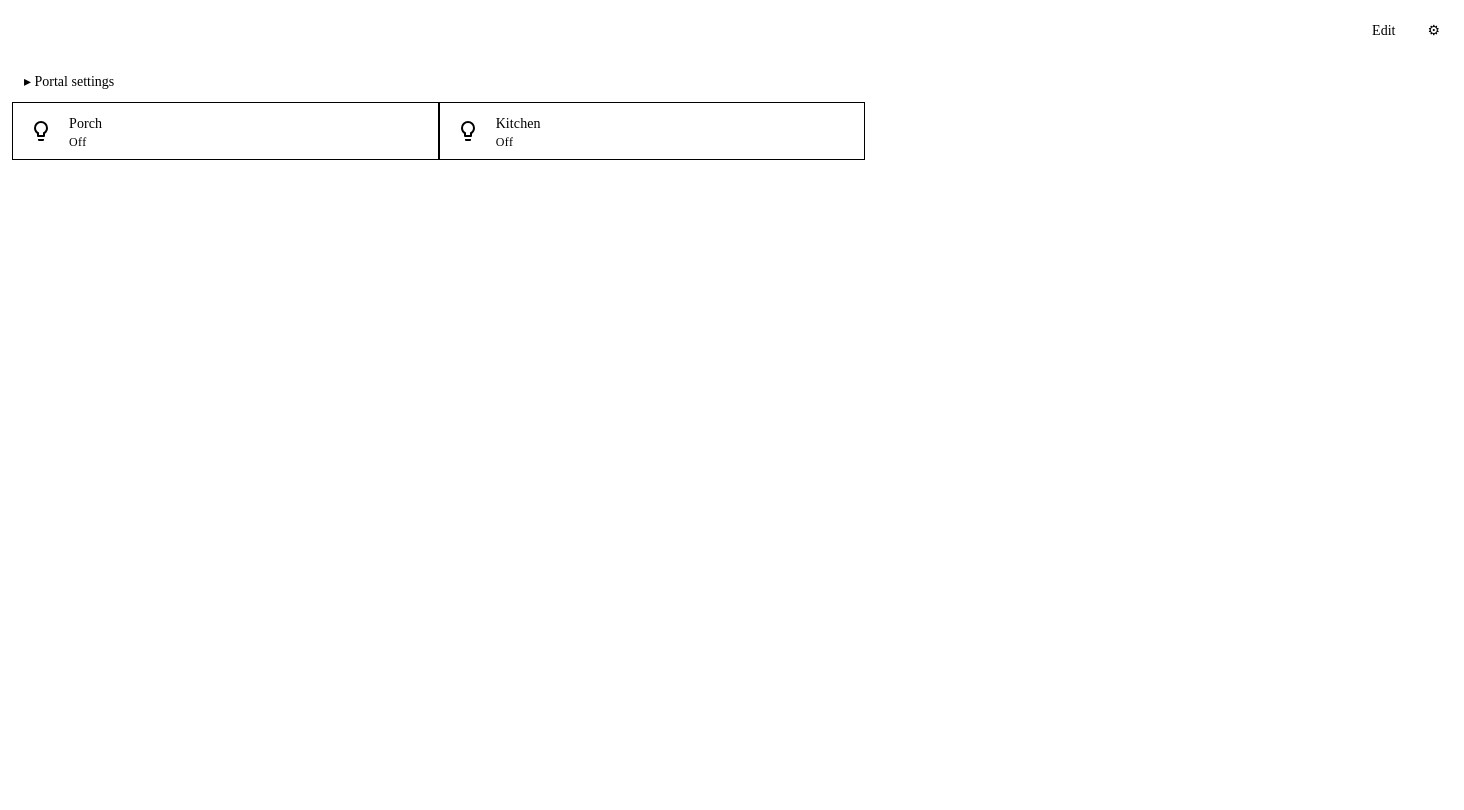
Scenario: Portal page › Edit mode › opens the editor for the device that was tapped
Click the button "Edit".
click(1384, 30)  # box [1360, 12, 1407, 49]
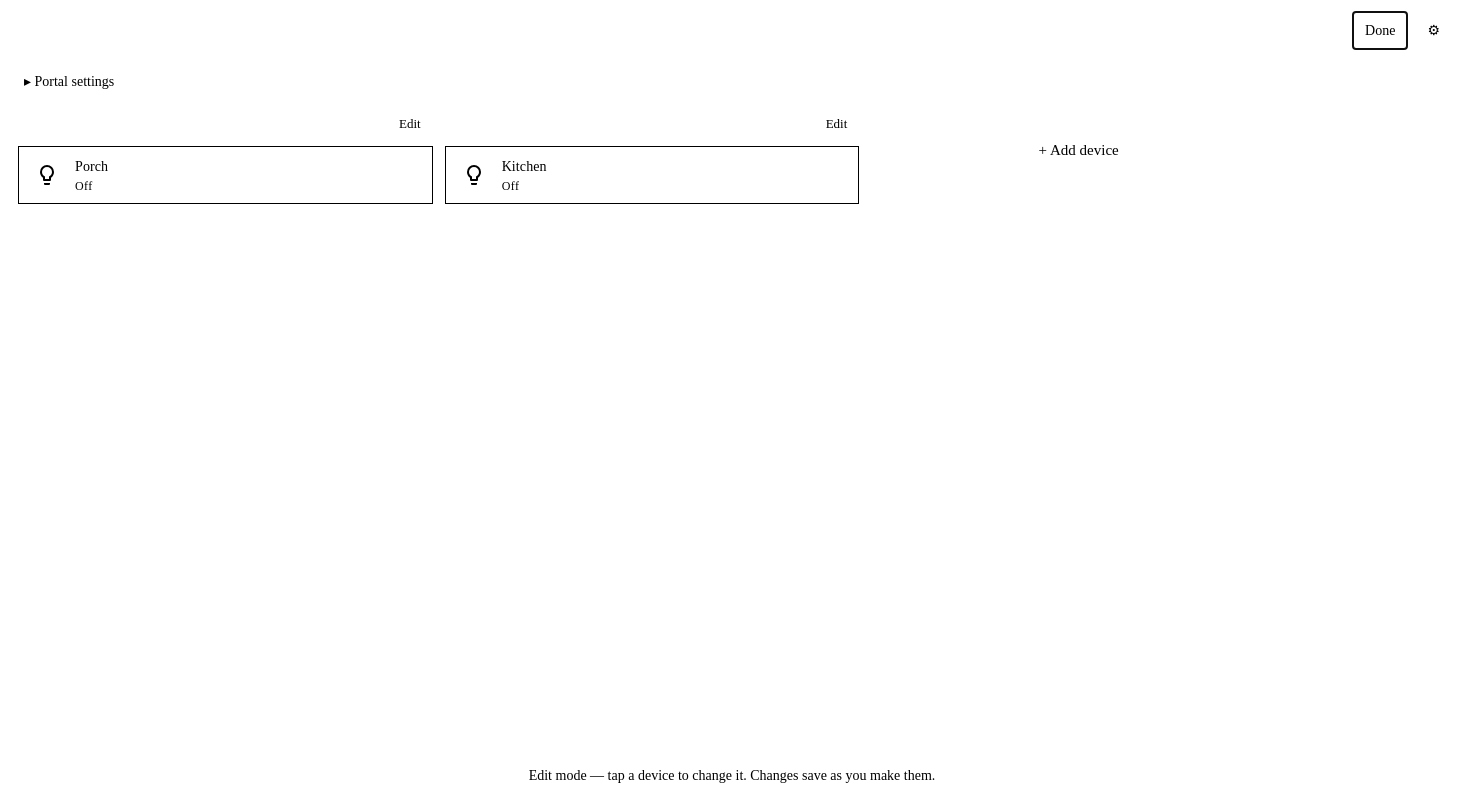
Expected: the button "Done" is shown, [1353, 12, 1407, 49]
Click the button "Kitchen Off".
click(524, 167)  # box [446, 146, 858, 202]
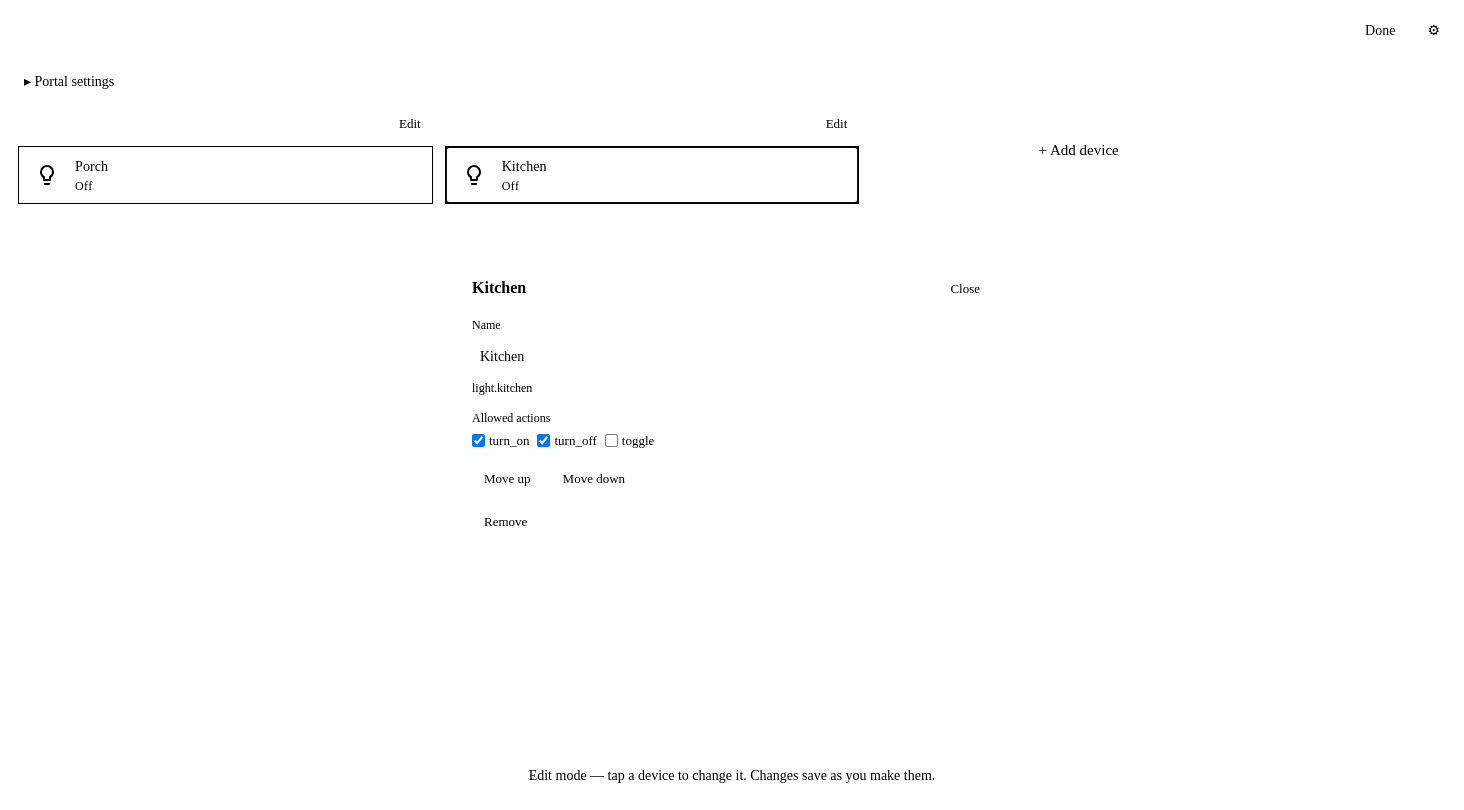
Expected: the heading "Kitchen" is shown, [472, 276, 526, 300]
